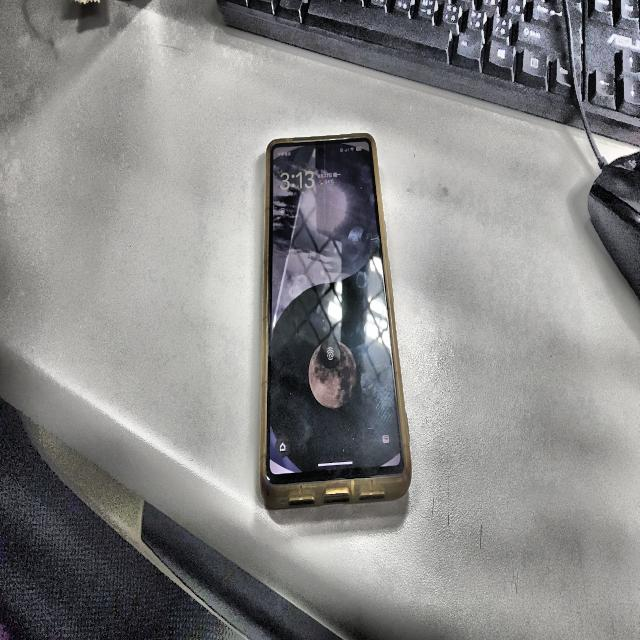Keyboard: (217, 0, 582, 127), (568, 0, 640, 144)
MOUSE: (588, 152, 640, 299)
PHONE: (260, 134, 410, 508)
